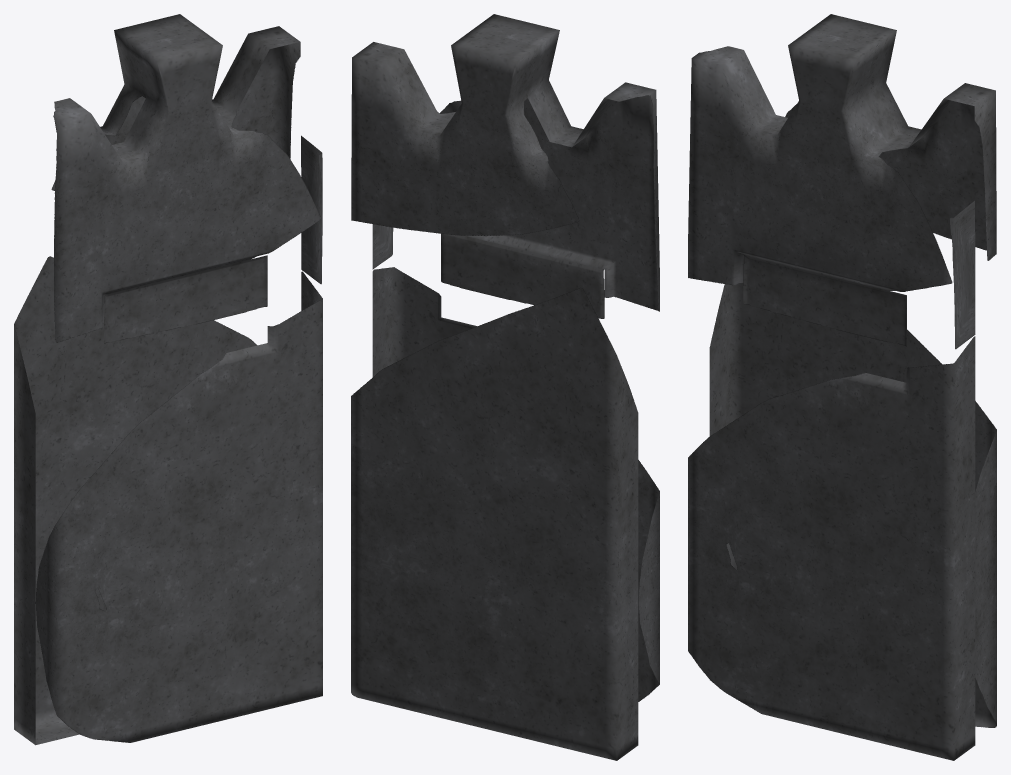
Rendered from stone_05.fbx.
3 renders of one model, left to right at view 1: azimuth 30°, elevation 25°; view 2: azimuth 150°, elevation 25°; view 3: azimuth 330°, elevation 25°, orthographic.
Parts seen in each view (by area): view 1: stone_05; view 2: stone_05; view 3: stone_05.
Part boxes in pixels (x1=…): stone_05: x1=14, y1=14, x2=322, y2=745; stone_05: x1=351, y1=14, x2=659, y2=760; stone_05: x1=688, y1=14, x2=996, y2=760.
Size of the model in its own units: 57.58 by 140 by 16.1.
